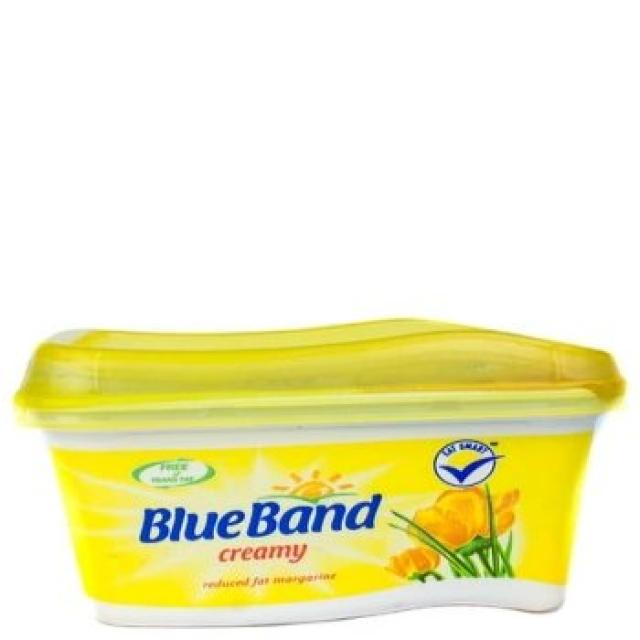butter: (11, 315, 625, 627)
